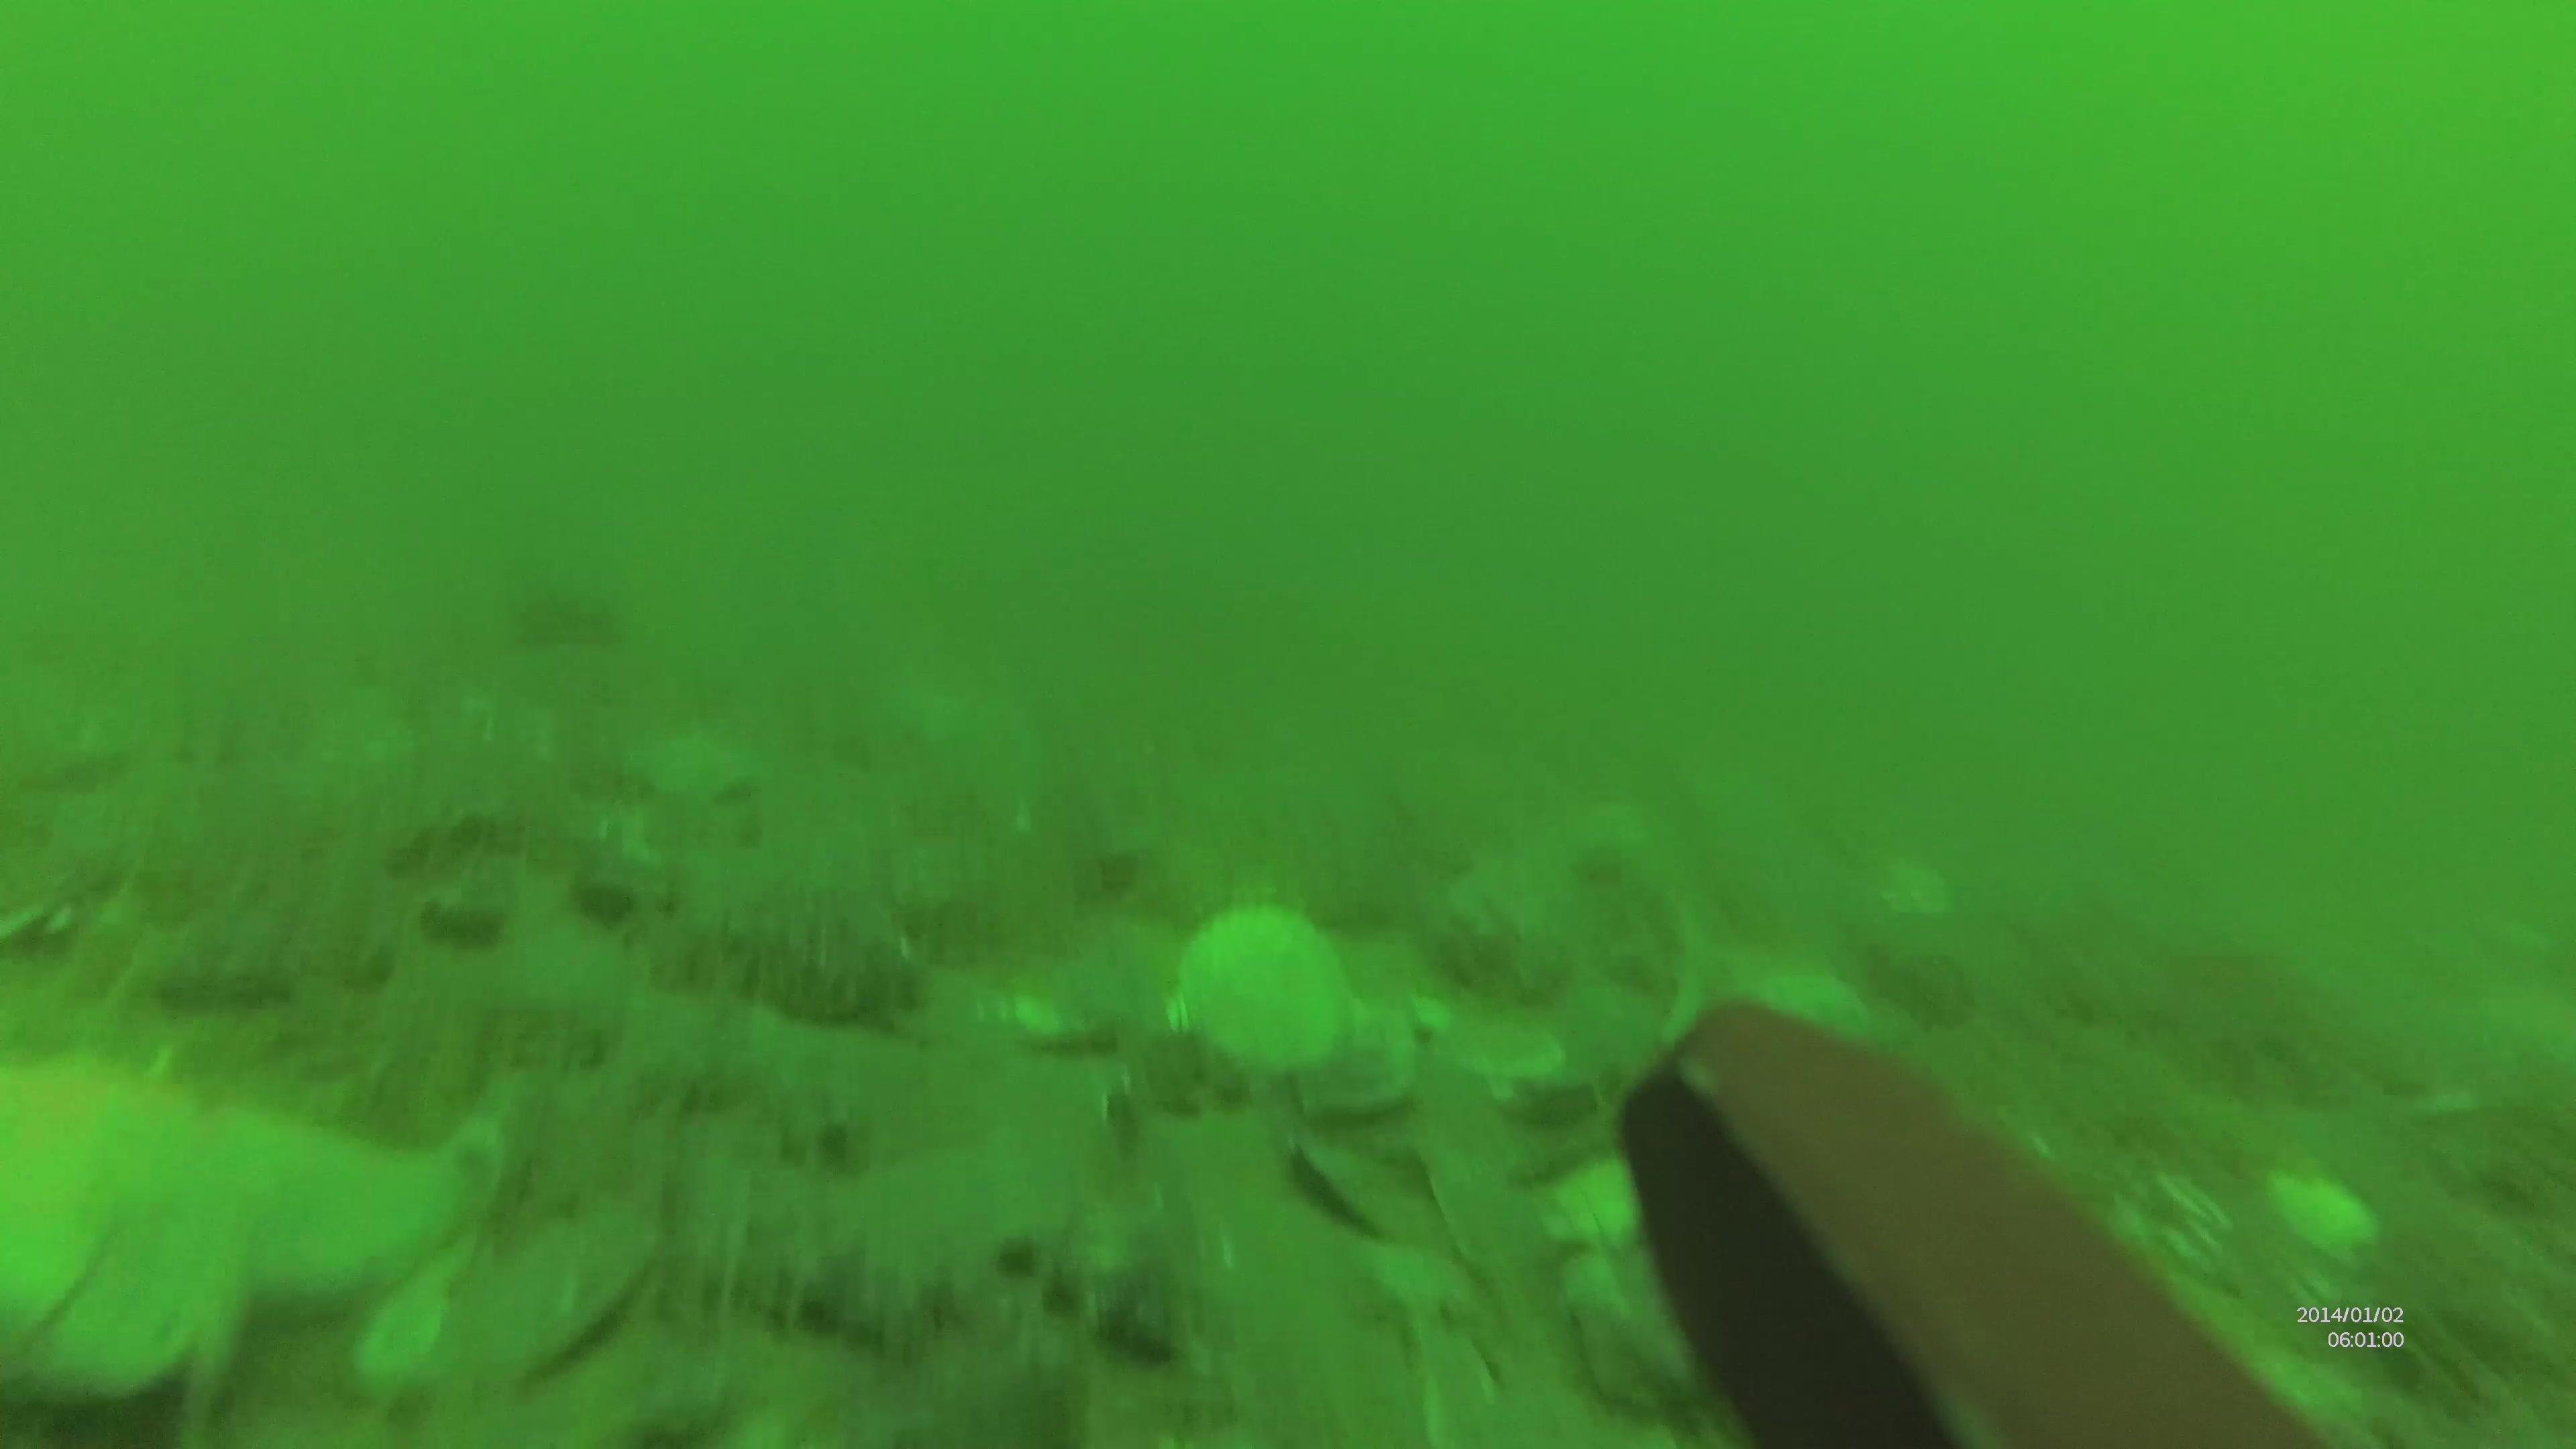scallop: (1173, 901, 1353, 1058), (1428, 1148, 1568, 1306), (1283, 1138, 1461, 1253), (1587, 1244, 1688, 1426), (1297, 989, 1422, 1129), (2266, 1177, 2401, 1267), (1553, 1152, 1677, 1240), (1757, 959, 1884, 1039), (1454, 1012, 1578, 1077), (1884, 856, 1950, 924)
starfish: (0, 1070, 508, 1407)
